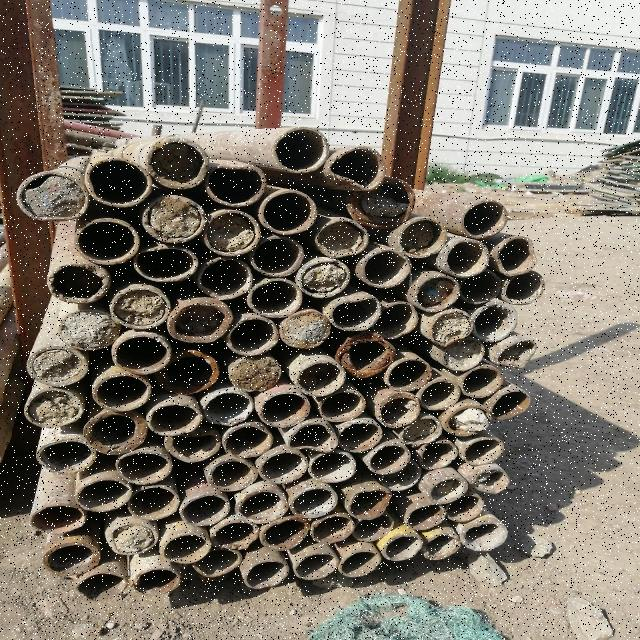pipe: (16, 170, 88, 221), (86, 155, 152, 209), (348, 178, 416, 226), (148, 136, 208, 190), (74, 217, 140, 265), (166, 296, 232, 344), (144, 192, 206, 242), (270, 125, 332, 174), (155, 348, 221, 394), (21, 345, 88, 387), (82, 408, 144, 453), (326, 144, 386, 190), (204, 162, 266, 206), (108, 285, 170, 329), (205, 208, 261, 256), (110, 331, 170, 375), (92, 370, 154, 412), (260, 188, 316, 234), (59, 308, 119, 350), (20, 388, 82, 428), (48, 263, 110, 303), (196, 256, 252, 300), (338, 332, 394, 376), (227, 310, 279, 356), (133, 246, 199, 282), (247, 276, 303, 318), (34, 438, 99, 474), (392, 217, 447, 259), (40, 540, 102, 576), (297, 258, 351, 299), (312, 219, 370, 257), (359, 248, 411, 290), (280, 307, 332, 349), (250, 236, 304, 276), (457, 198, 511, 237), (235, 487, 289, 525), (409, 275, 461, 313), (328, 295, 382, 331), (228, 355, 282, 391), (473, 300, 519, 342), (260, 515, 312, 551), (222, 422, 274, 458), (296, 359, 346, 396), (492, 235, 538, 275), (77, 479, 131, 513), (147, 402, 201, 436), (163, 430, 220, 462), (178, 493, 230, 528), (27, 504, 87, 534), (118, 450, 174, 482), (106, 521, 158, 555), (204, 457, 256, 491), (314, 388, 366, 422), (260, 392, 312, 426), (426, 309, 474, 345), (374, 392, 422, 428), (374, 301, 419, 339), (129, 486, 179, 520), (259, 450, 309, 484), (384, 358, 434, 392), (442, 240, 489, 276), (192, 546, 242, 578), (286, 419, 336, 451), (442, 405, 492, 437), (456, 365, 504, 398), (208, 391, 254, 425), (440, 337, 486, 371), (77, 570, 129, 600), (461, 518, 508, 551), (346, 488, 394, 520), (310, 452, 358, 484), (501, 270, 546, 304), (494, 336, 540, 369), (160, 534, 210, 564), (290, 487, 340, 517), (310, 514, 358, 544), (210, 520, 258, 550), (338, 421, 383, 453), (246, 560, 292, 590), (365, 443, 411, 473), (416, 380, 462, 410), (398, 413, 444, 443), (133, 567, 183, 594), (459, 272, 501, 304), (489, 391, 533, 421), (380, 461, 422, 492), (403, 502, 448, 530), (423, 476, 468, 504), (417, 440, 459, 470), (296, 553, 340, 581), (383, 532, 423, 562), (340, 549, 380, 579), (445, 494, 487, 522), (352, 513, 394, 541), (462, 437, 504, 465), (474, 467, 512, 495), (424, 532, 459, 562)
